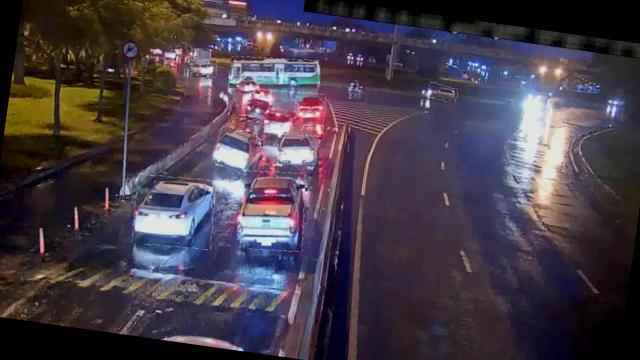Bus: (226, 50, 320, 98)
Car: (128, 172, 218, 253), (235, 166, 310, 255), (210, 125, 264, 175), (274, 130, 318, 167), (289, 108, 324, 138), (294, 90, 328, 117), (242, 92, 272, 121), (264, 108, 296, 134), (188, 57, 217, 80), (426, 82, 458, 102)
